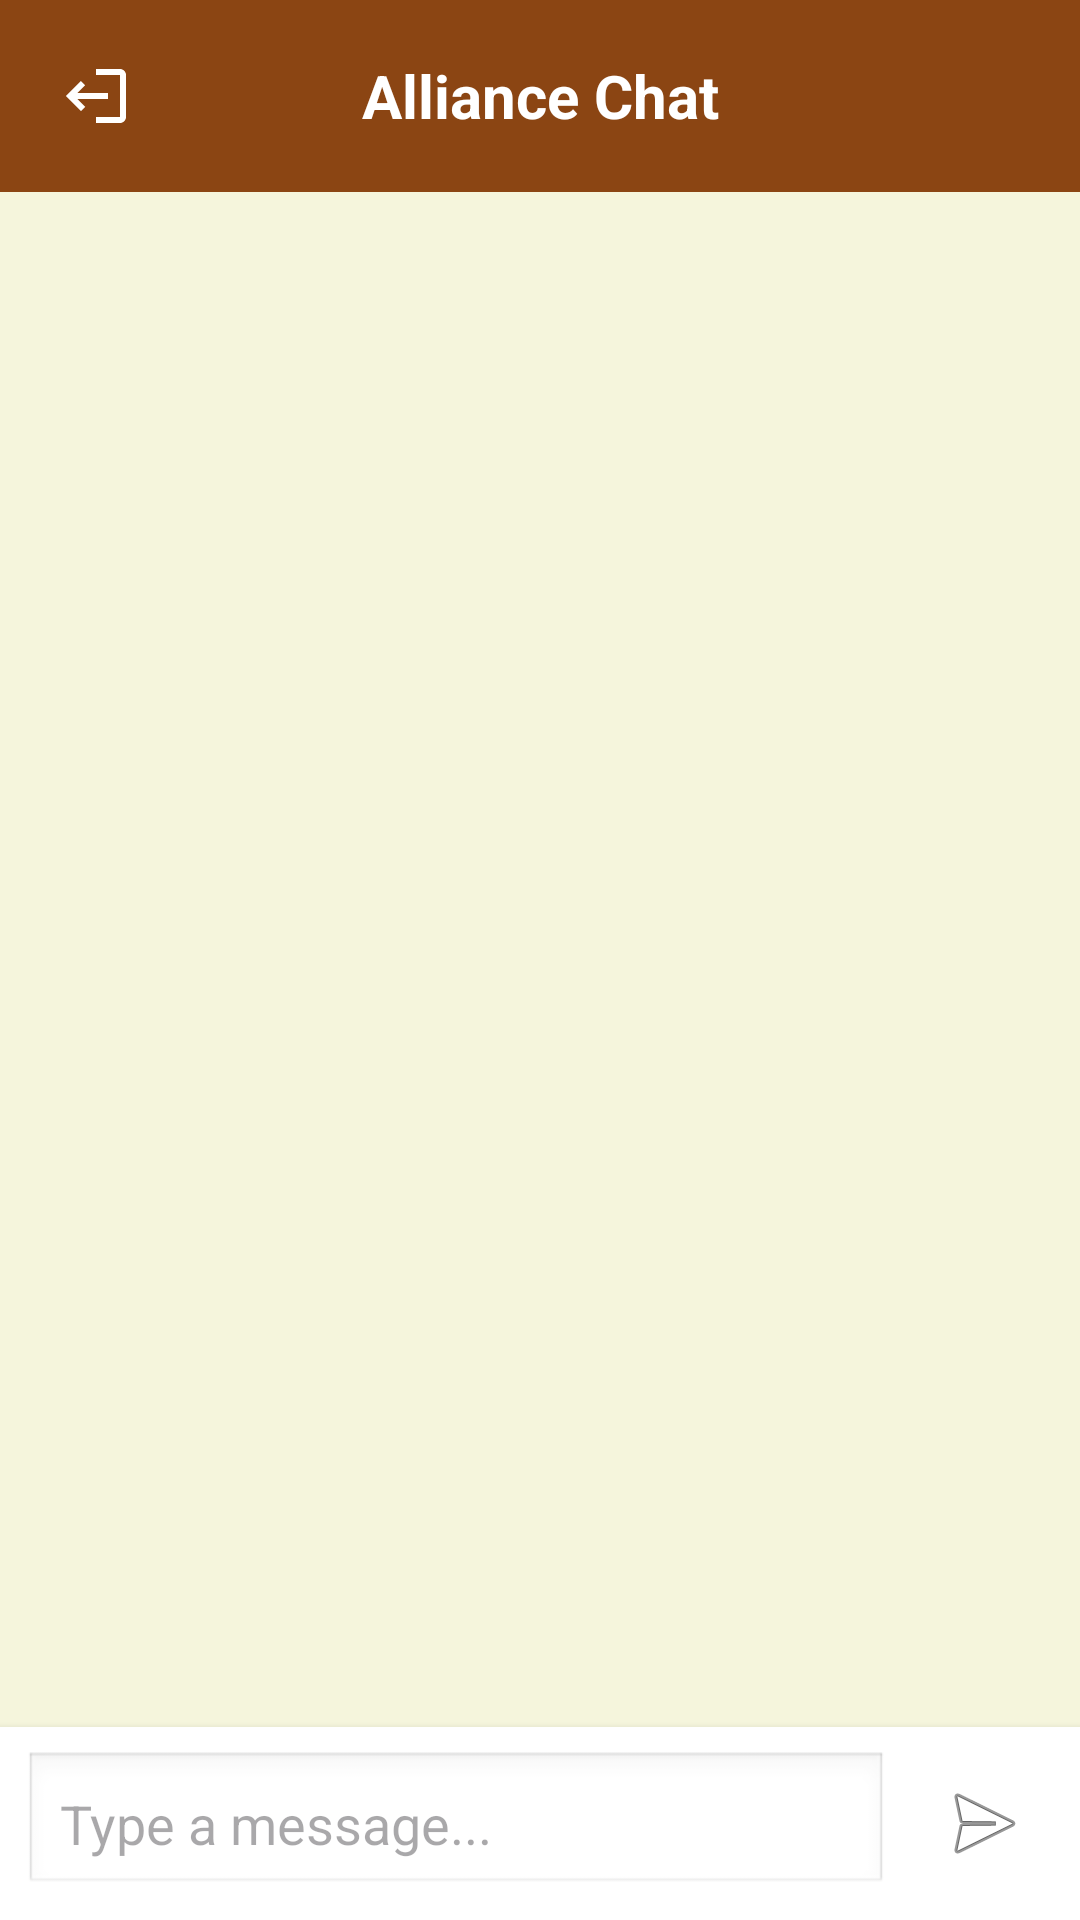

Icon bounding boxes for this 1080w x 1920h phone screenshot, format (x1, y1, x2, y2):
Send: (954, 1793, 1016, 1854)
